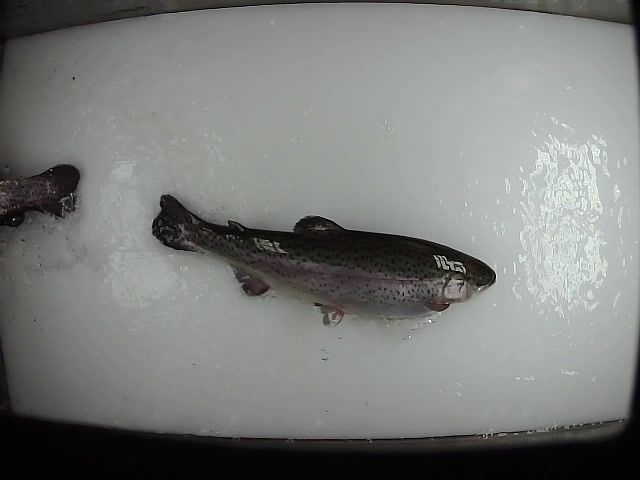fish: (150, 191, 500, 333)
